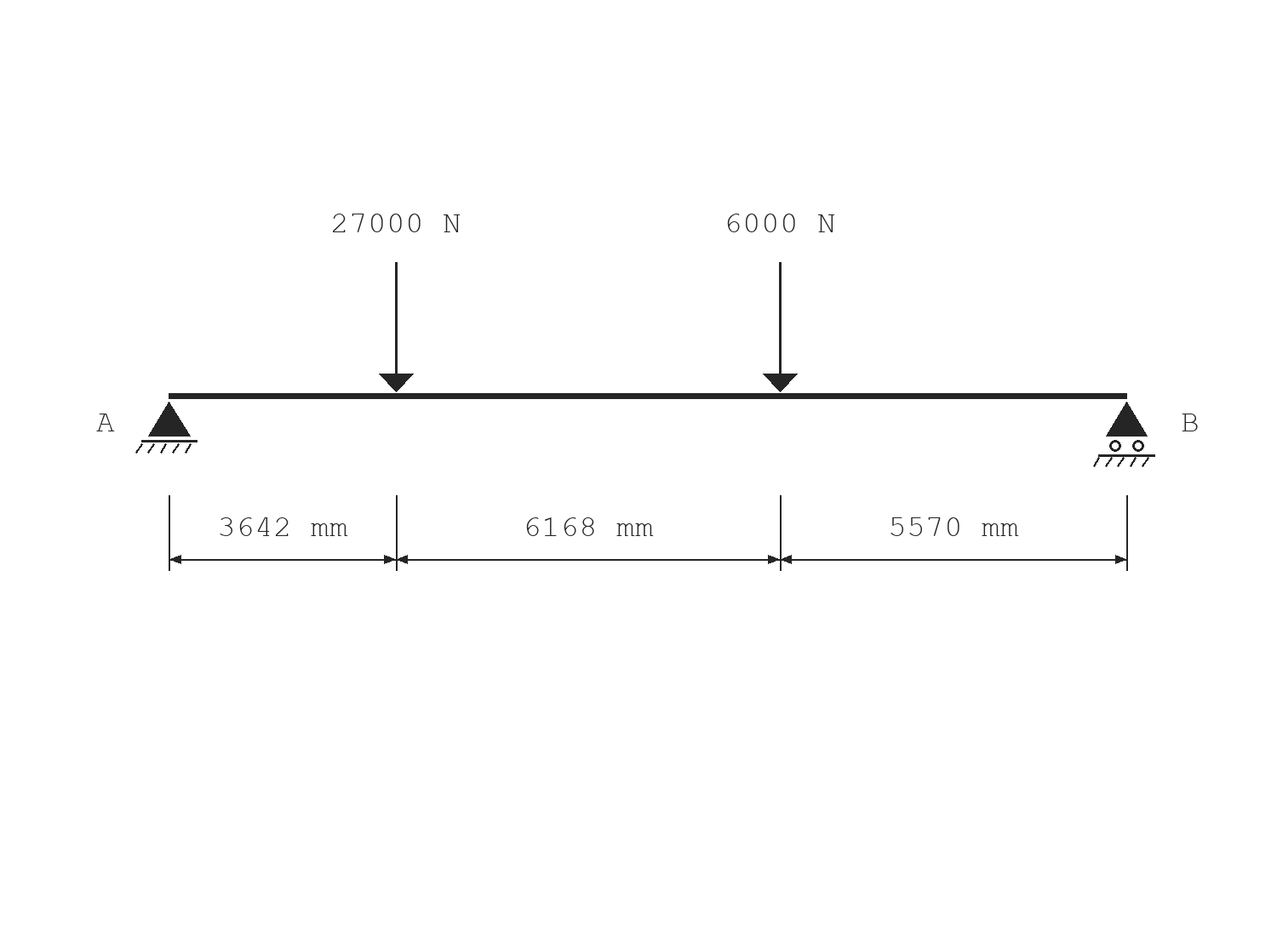pin_support: (135, 402, 198, 454)
point_load: (379, 262, 414, 392), (763, 262, 798, 392)
roller_support: (1093, 402, 1155, 467)
